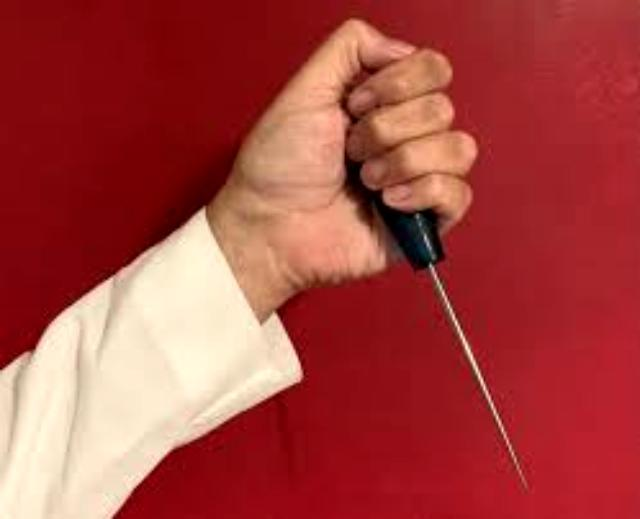ice pick: (203, 18, 559, 500)
